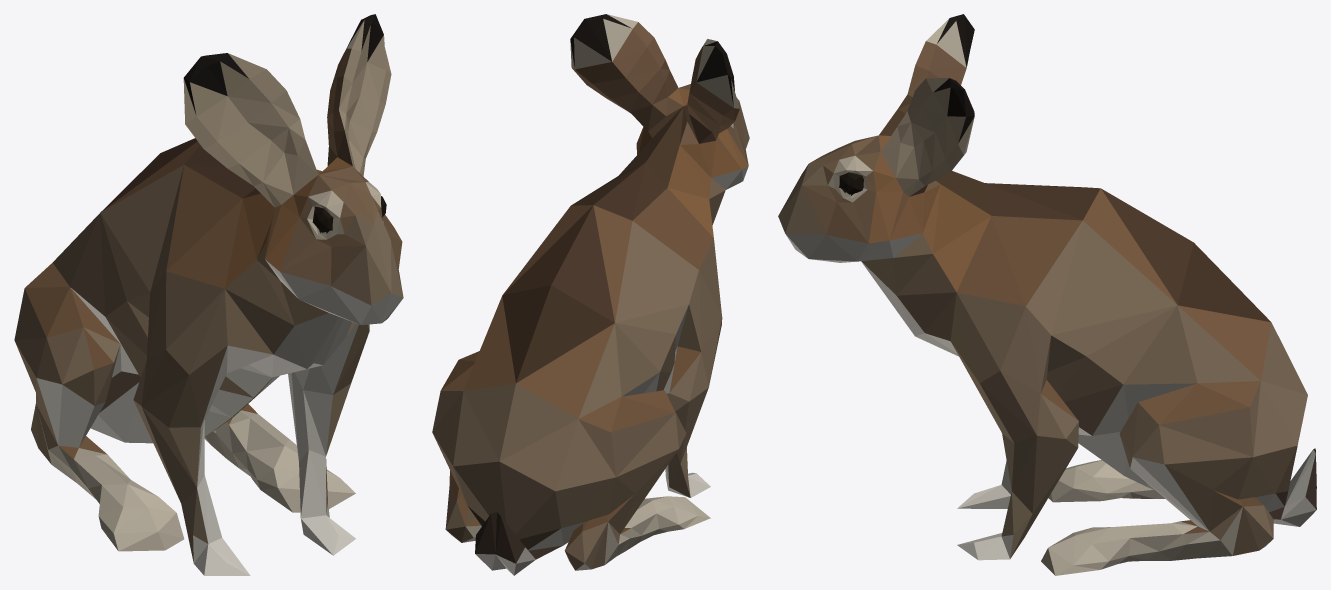
File: snowshoe_hare.glb
The picture shows the model from 3 angles, left to right: view 1: azimuth 30°, elevation 25°; view 2: azimuth 150°, elevation 25°; view 3: azimuth 270°, elevation 25°; orthographic projection. The views are drawn at different scales.
Visible parts, largest first — view 1: lod0; view 2: lod0; view 3: lod0.
Part boxes in pixels (<box>): lod0: <box>14,14,403,575</box>; lod0: <box>432,14,749,575</box>; lod0: <box>778,14,1316,575</box>.
Size of what is drawn, in the model's own units: 0.166 by 0.3029 by 0.3073.
